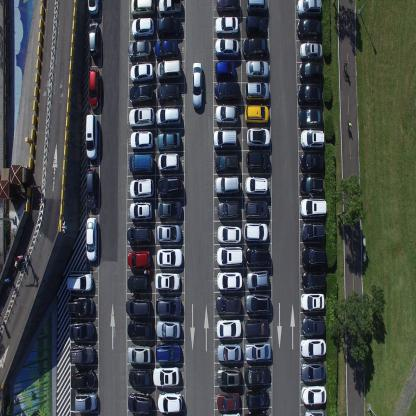car: (85, 113, 99, 160), (157, 389, 183, 414), (298, 152, 325, 176), (216, 364, 241, 388), (156, 294, 182, 317), (156, 59, 182, 82), (301, 246, 327, 269), (69, 342, 95, 365), (296, 17, 322, 40), (212, 127, 238, 150), (243, 292, 270, 314), (128, 106, 155, 128), (299, 198, 327, 219), (128, 222, 152, 246), (157, 174, 181, 198), (156, 341, 181, 364), (301, 315, 326, 338), (216, 269, 242, 291), (128, 152, 154, 174), (128, 83, 154, 105), (244, 364, 270, 386), (68, 320, 94, 342), (70, 368, 96, 390), (242, 36, 268, 58), (297, 84, 323, 106), (156, 247, 183, 268), (216, 245, 243, 266), (244, 341, 271, 362), (153, 365, 180, 386), (129, 177, 153, 200), (246, 149, 270, 172), (86, 216, 98, 262), (128, 391, 152, 414), (214, 292, 239, 314), (156, 222, 181, 244), (216, 318, 241, 340), (156, 106, 181, 128), (245, 387, 270, 409), (214, 14, 239, 36), (298, 61, 323, 83), (300, 128, 325, 150), (156, 199, 182, 220), (126, 343, 152, 364), (243, 317, 269, 338), (243, 221, 269, 242), (214, 174, 240, 195), (298, 176, 324, 197), (216, 224, 242, 245), (300, 361, 326, 382), (300, 384, 326, 405), (67, 297, 94, 317), (87, 68, 100, 109), (295, 0, 323, 19), (130, 61, 154, 83), (245, 104, 269, 126), (244, 174, 268, 196), (191, 61, 202, 109), (244, 14, 268, 36), (155, 319, 180, 340), (298, 107, 323, 128), (216, 343, 242, 363), (300, 292, 326, 312), (214, 82, 240, 102), (244, 82, 270, 102), (156, 16, 182, 36), (300, 337, 326, 357), (66, 273, 93, 292), (299, 223, 326, 242), (129, 200, 152, 222), (128, 38, 151, 60), (132, 15, 154, 38), (156, 131, 180, 152), (126, 297, 150, 318), (126, 249, 150, 270), (214, 104, 238, 125), (244, 198, 268, 219), (156, 83, 180, 104), (74, 391, 98, 412), (154, 38, 178, 59), (155, 271, 180, 291), (301, 272, 326, 292), (298, 41, 323, 61), (86, 166, 97, 210), (217, 199, 240, 220), (246, 128, 270, 148), (128, 366, 152, 386), (216, 392, 240, 412), (215, 36, 239, 56), (215, 153, 239, 173), (245, 247, 270, 266), (127, 320, 153, 338), (157, 152, 179, 173), (215, 59, 237, 80), (246, 269, 269, 289), (246, 60, 269, 80), (88, 20, 100, 58), (130, 132, 153, 151), (130, 0, 155, 17), (127, 273, 149, 292), (158, 0, 181, 15), (245, 0, 269, 14), (215, 0, 240, 13), (88, 0, 100, 17), (245, 408, 268, 416), (304, 407, 325, 415)
